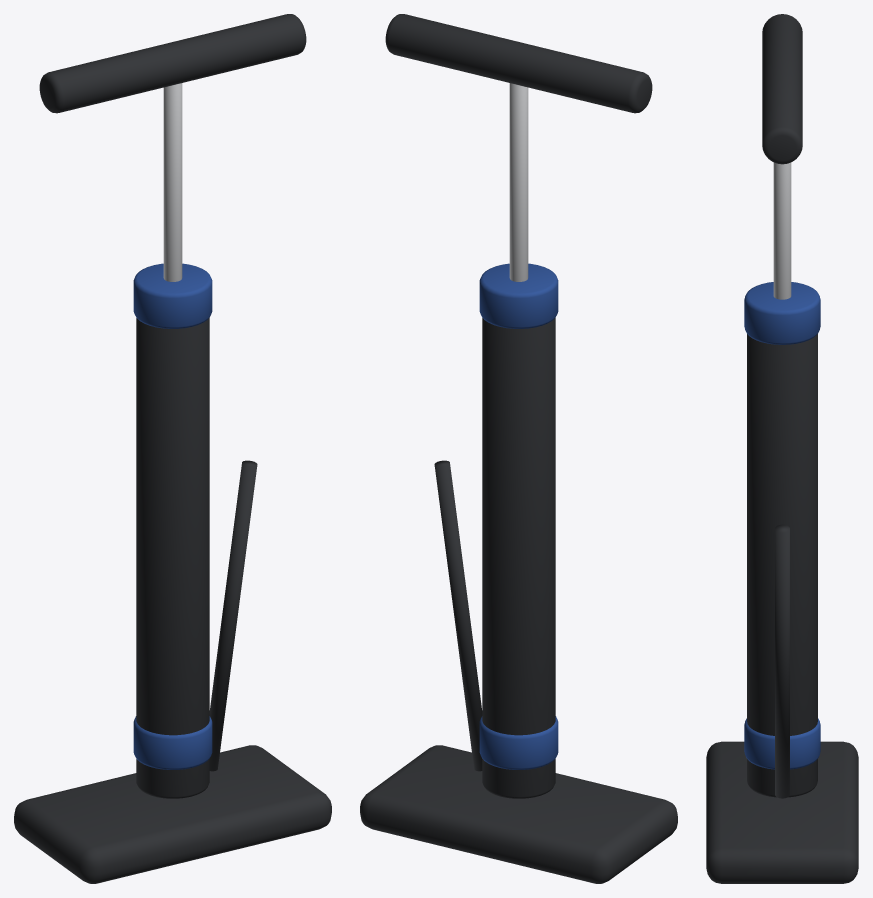
The model's file is Pompe.fbx.
The picture shows the model from 3 angles, left to right: view 1: azimuth 30°, elevation 25°; view 2: azimuth 150°, elevation 25°; view 3: azimuth 270°, elevation 25°; orthographic projection. The views are drawn at different scales.
Visible parts, largest first — view 1: Pompe_Barrel, Pompe_Foot, Pompe_Handle, Pompe_Hose, Pompe_BandHigh, Pompe_Rod, Pompe_BandLow; view 2: Pompe_Barrel, Pompe_Foot, Pompe_Handle, Pompe_Hose, Pompe_BandHigh, Pompe_Rod, Pompe_BandLow; view 3: Pompe_Barrel, Pompe_Foot, Pompe_Handle, Pompe_Hose, Pompe_BandHigh, Pompe_Rod, Pompe_BandLow.
Boxes of the visible parts, bbox=[...] form: Pompe_Barrel: bbox=[136, 318, 209, 798]; Pompe_Foot: bbox=[14, 745, 331, 883]; Pompe_Handle: bbox=[39, 14, 306, 113]; Pompe_Hose: bbox=[209, 460, 257, 771]; Pompe_BandHigh: bbox=[133, 263, 212, 328]; Pompe_Rod: bbox=[163, 83, 182, 281]; Pompe_BandLow: bbox=[133, 716, 212, 769]; Pompe_Barrel: bbox=[482, 318, 555, 798]; Pompe_Foot: bbox=[360, 745, 677, 883]; Pompe_Handle: bbox=[385, 14, 652, 113]; Pompe_Hose: bbox=[434, 460, 482, 771]; Pompe_BandHigh: bbox=[479, 263, 558, 328]; Pompe_Rod: bbox=[509, 83, 528, 281]; Pompe_BandLow: bbox=[479, 716, 558, 769]; Pompe_Barrel: bbox=[747, 334, 817, 797]; Pompe_Foot: bbox=[706, 741, 858, 883]; Pompe_Handle: bbox=[762, 14, 802, 164]; Pompe_Hose: bbox=[775, 524, 789, 798]; Pompe_BandHigh: bbox=[744, 282, 820, 344]; Pompe_Rod: bbox=[773, 162, 791, 299]; Pompe_BandLow: bbox=[744, 718, 820, 769].
Size of the model in its own units: 0.22 by 0.661 by 0.12.
